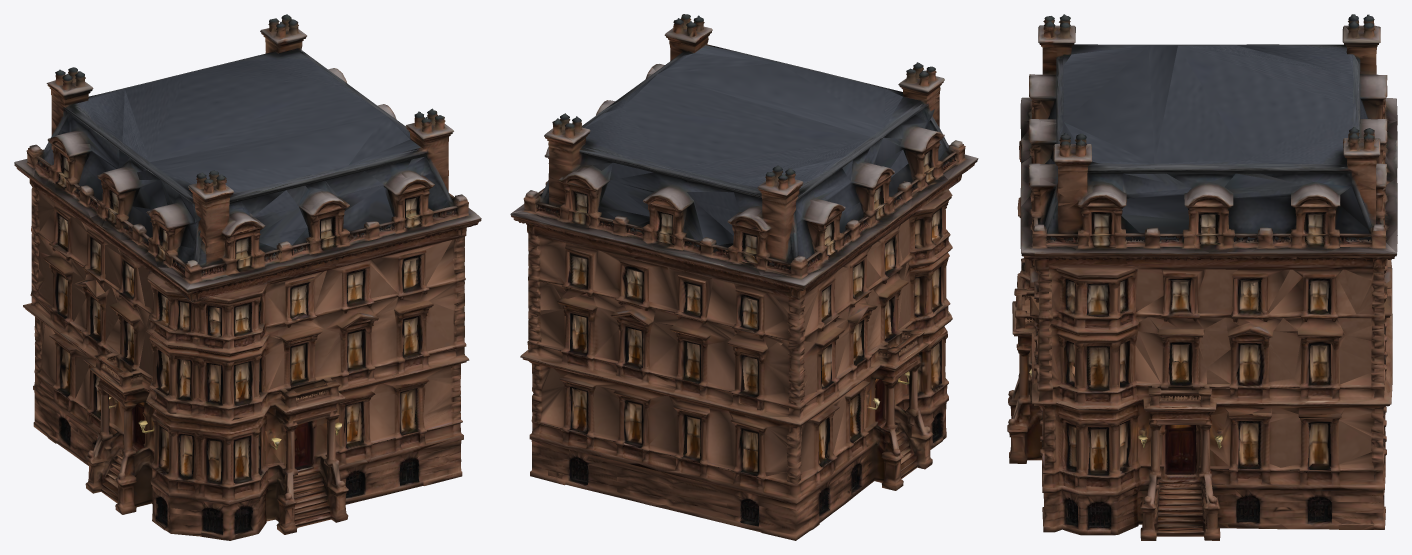
The model's file is GildedAgeMansion_LOD2.fbx.
3 renders of one model, left to right at view 1: azimuth 30°, elevation 25°; view 2: azimuth 150°, elevation 25°; view 3: azimuth 270°, elevation 25°, orthographic. The views are drawn at different scales.
Parts seen in each view (by area): view 1: GildedAgeMansion_LOD2; view 2: GildedAgeMansion_LOD2; view 3: GildedAgeMansion_LOD2.
Boxes of the visible parts, left/top/right/bottom form: GildedAgeMansion_LOD2: left=14, top=14, right=481, bottom=540; GildedAgeMansion_LOD2: left=510, top=14, right=978, bottom=540; GildedAgeMansion_LOD2: left=1007, top=14, right=1397, bottom=540.
Bounding box in the file's own units: 1464 × 1599 × 1465.
